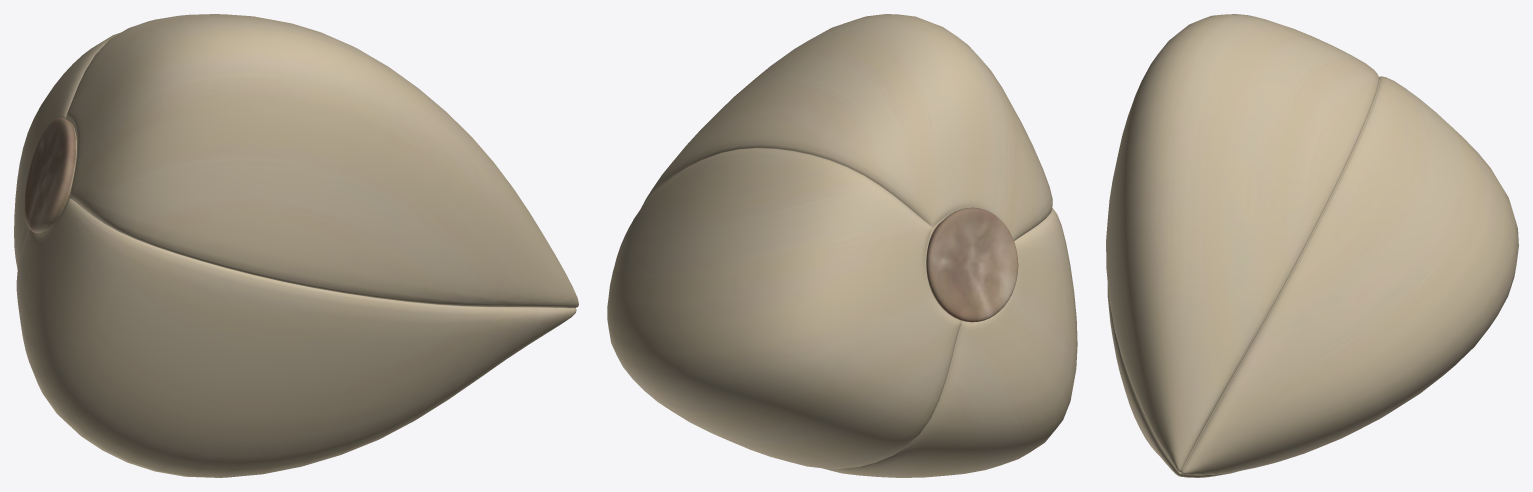
File: GrainBuckwheat039.obj
The picture shows the model from 3 angles, left to right: view 1: azimuth 30°, elevation 25°; view 2: azimuth 150°, elevation 25°; view 3: azimuth 270°, elevation 25°; orthographic projection. The views are drawn at different scales.
Parts seen in each view (by area): view 1: GrainBuckwheat039; view 2: GrainBuckwheat039; view 3: GrainBuckwheat039.
Boxes of the visible parts, x1,y1,x2,y2 form: GrainBuckwheat039: [14, 14, 578, 477]; GrainBuckwheat039: [607, 14, 1077, 477]; GrainBuckwheat039: [1106, 14, 1518, 477].
Bounding box in the file's own units: 0.0313 × 0.0267 × 0.0254.
1 material, 1 textured.
